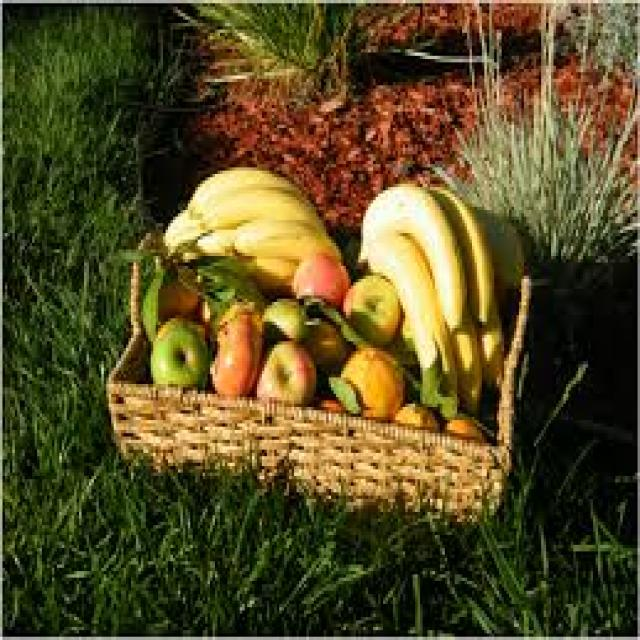organic waste: (366, 227, 457, 420), (358, 177, 465, 335), (425, 180, 492, 325), (198, 187, 321, 240), (183, 160, 296, 217), (230, 213, 343, 266), (329, 338, 400, 420), (469, 200, 519, 289), (146, 312, 202, 391), (338, 269, 398, 341), (205, 312, 257, 394), (252, 338, 314, 404), (190, 246, 257, 302), (292, 249, 346, 312), (450, 312, 479, 413), (472, 286, 499, 390), (299, 315, 346, 374), (232, 253, 294, 292), (260, 296, 306, 342), (163, 204, 203, 252), (188, 220, 237, 259), (393, 394, 442, 430), (141, 259, 165, 328), (322, 368, 358, 410), (442, 404, 484, 439), (114, 246, 153, 273), (316, 394, 344, 407)
